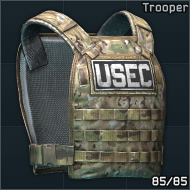Highcom Trooper TFO armor Multicam: (0, 0, 190, 190)
